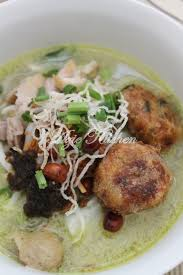soto: (1, 30, 183, 273)
